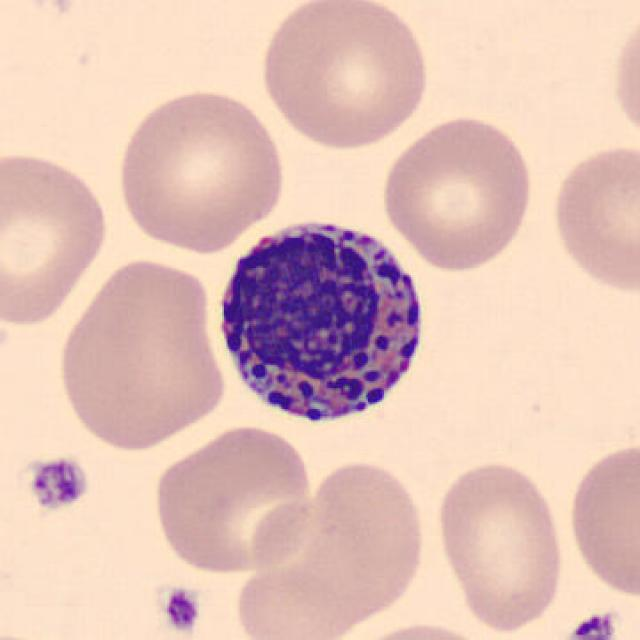Basophil: (205, 203, 438, 439)
Platelets: (23, 453, 93, 515), (158, 586, 203, 636), (564, 610, 618, 640)
RBC: (52, 252, 231, 453), (238, 455, 432, 635), (110, 83, 290, 256), (252, 0, 436, 152), (149, 420, 320, 578), (377, 110, 539, 274), (430, 455, 569, 636), (0, 144, 114, 332), (546, 137, 638, 298), (563, 437, 640, 601), (608, 5, 640, 155), (336, 617, 501, 640)
